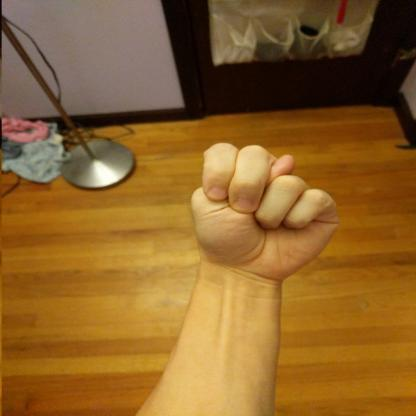N: (186, 140, 346, 284)
